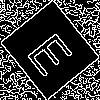E: (25, 25, 82, 79)
